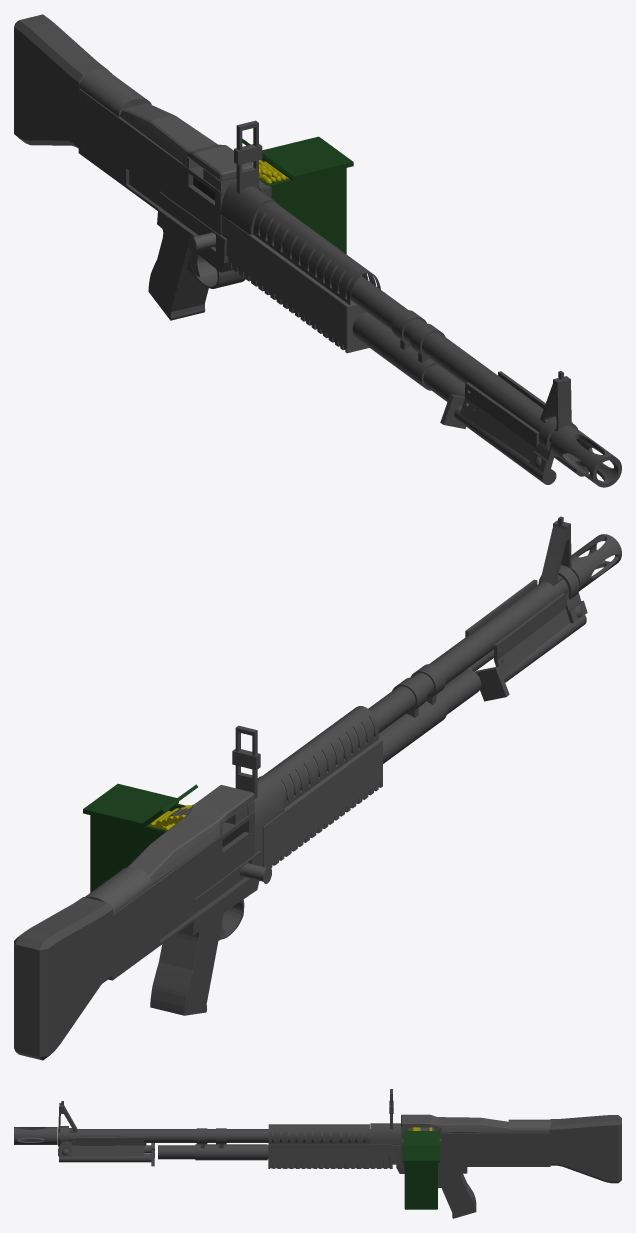
3 renders of one model, top to bottom at view 1: azimuth 30°, elevation 25°; view 2: azimuth 150°, elevation 25°; view 3: azimuth 270°, elevation 25°, orthographic. The views are drawn at different scales.
Visible parts, largest first — view 1: Case1; view 2: Case1; view 3: Case1.
Part boxes in pixels (bbox=[...]): Case1: bbox=[14, 14, 621, 487]; Case1: bbox=[14, 516, 621, 1060]; Case1: bbox=[14, 1089, 621, 1218].
Bounding box in the file's own units: 1.56 × 2.26 × 10.07.
